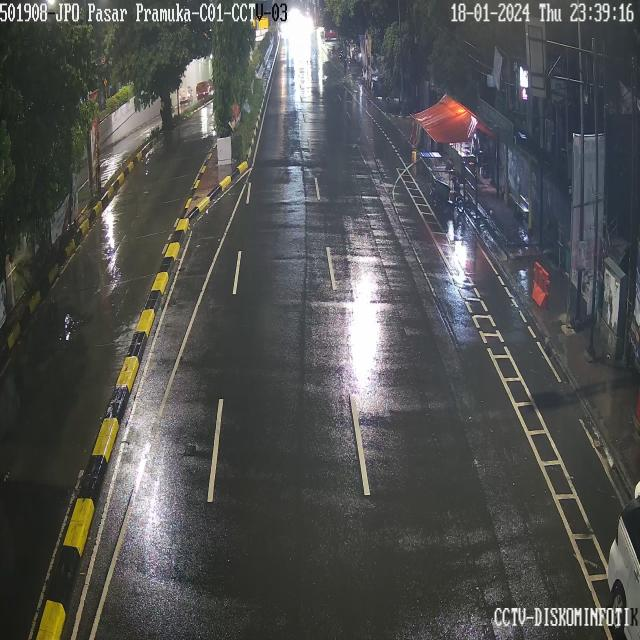Terpal: (409, 87, 487, 137)
